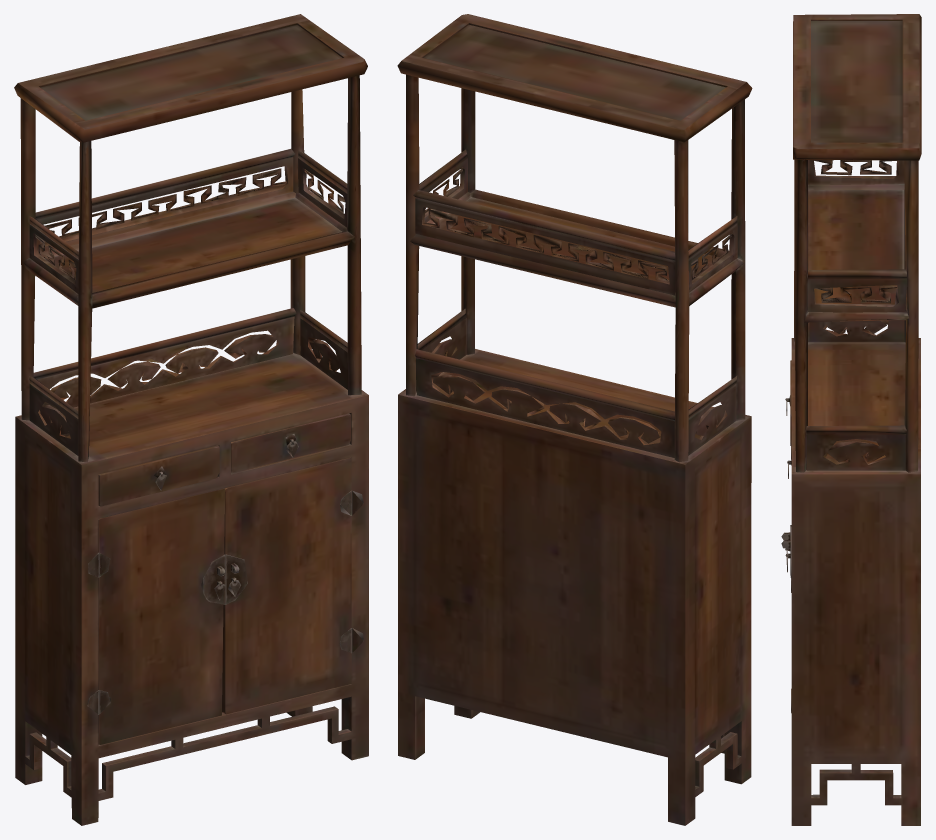
File: chinese_cabinet.glb
The picture shows the model from 3 angles, left to right: view 1: azimuth 30°, elevation 25°; view 2: azimuth 150°, elevation 25°; view 3: azimuth 270°, elevation 25°; orthographic projection. The views are drawn at different scales.
Visible parts, largest first — view 1: chinese_cabinet; view 2: chinese_cabinet; view 3: chinese_cabinet.
Boxes of the visible parts, x1,y1,x2,y2 form: chinese_cabinet: (14, 14, 368, 825); chinese_cabinet: (397, 14, 752, 825); chinese_cabinet: (781, 14, 921, 825).
Bounding box in the file's own units: 1.26 × 2.87 × 0.5392.
1 material, 1 textured.
